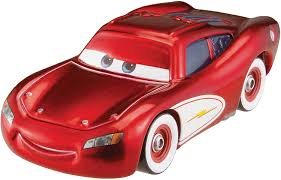mcqueen: (1, 1, 280, 180)
